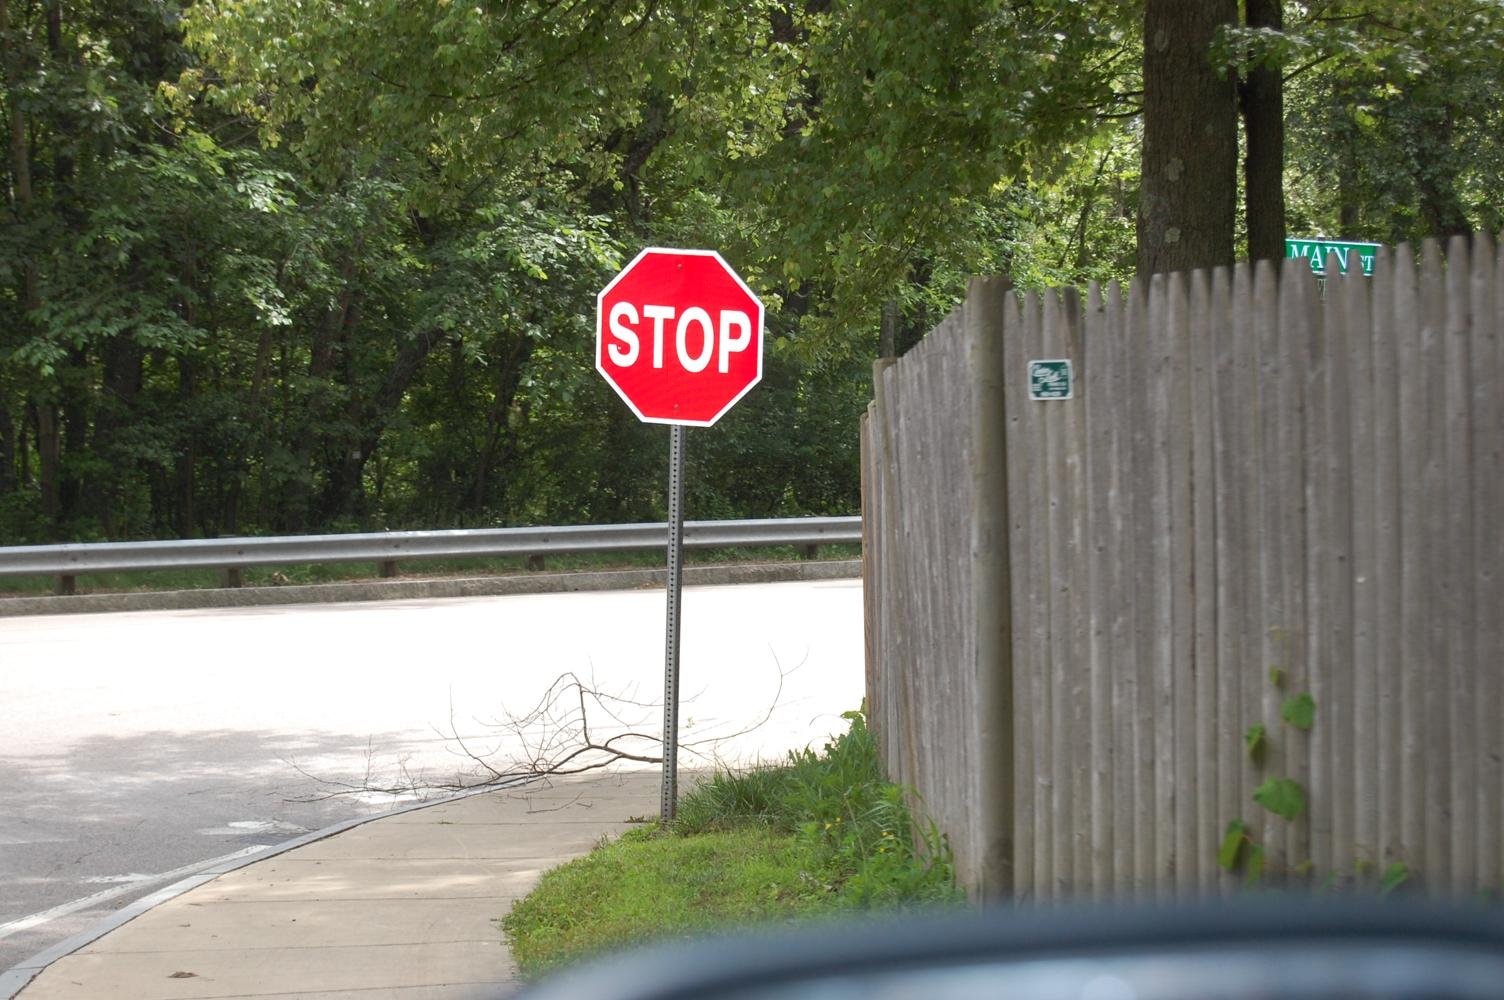stop: (591, 246, 764, 424)
